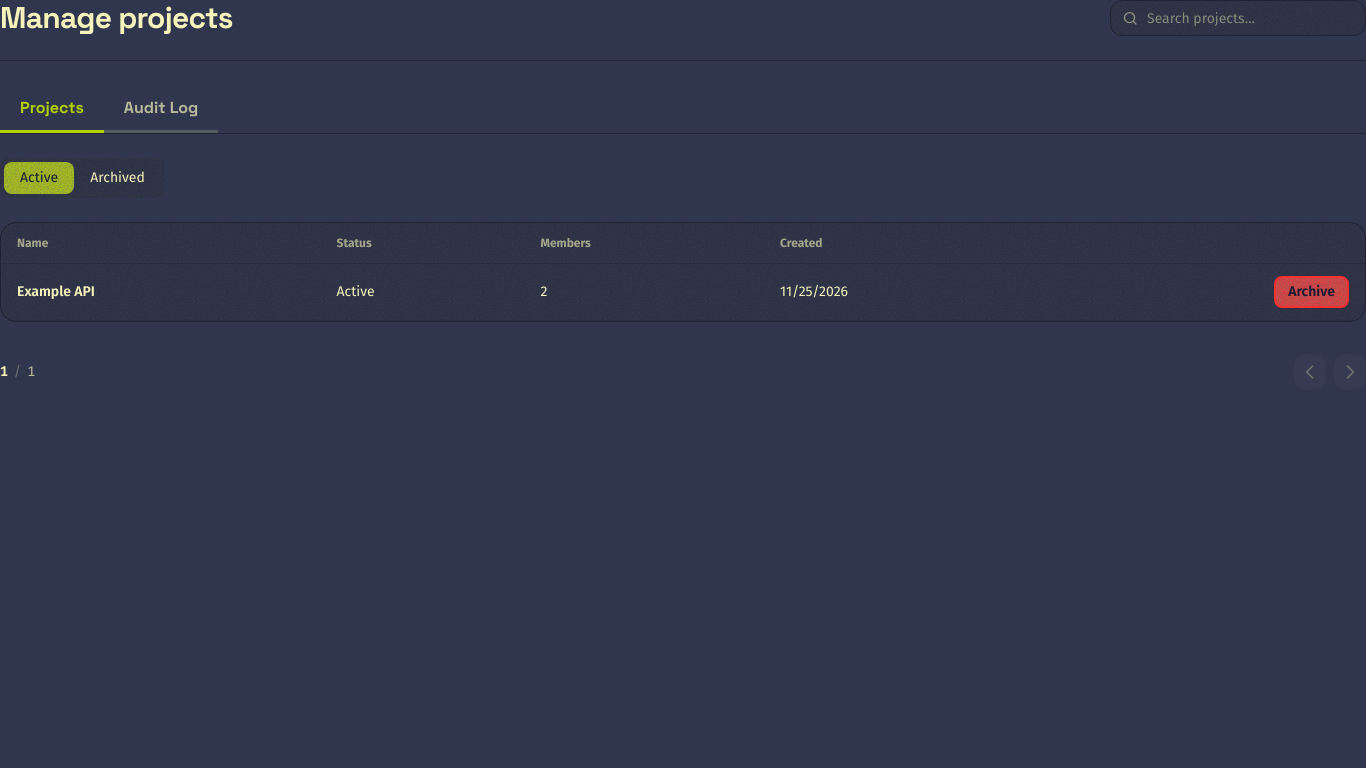
keeps a failed status change visible in the confirmation dialog
Click the button with aria-label "Archive Example API". click: (1312, 292)
box: [1274,276,1349,308]
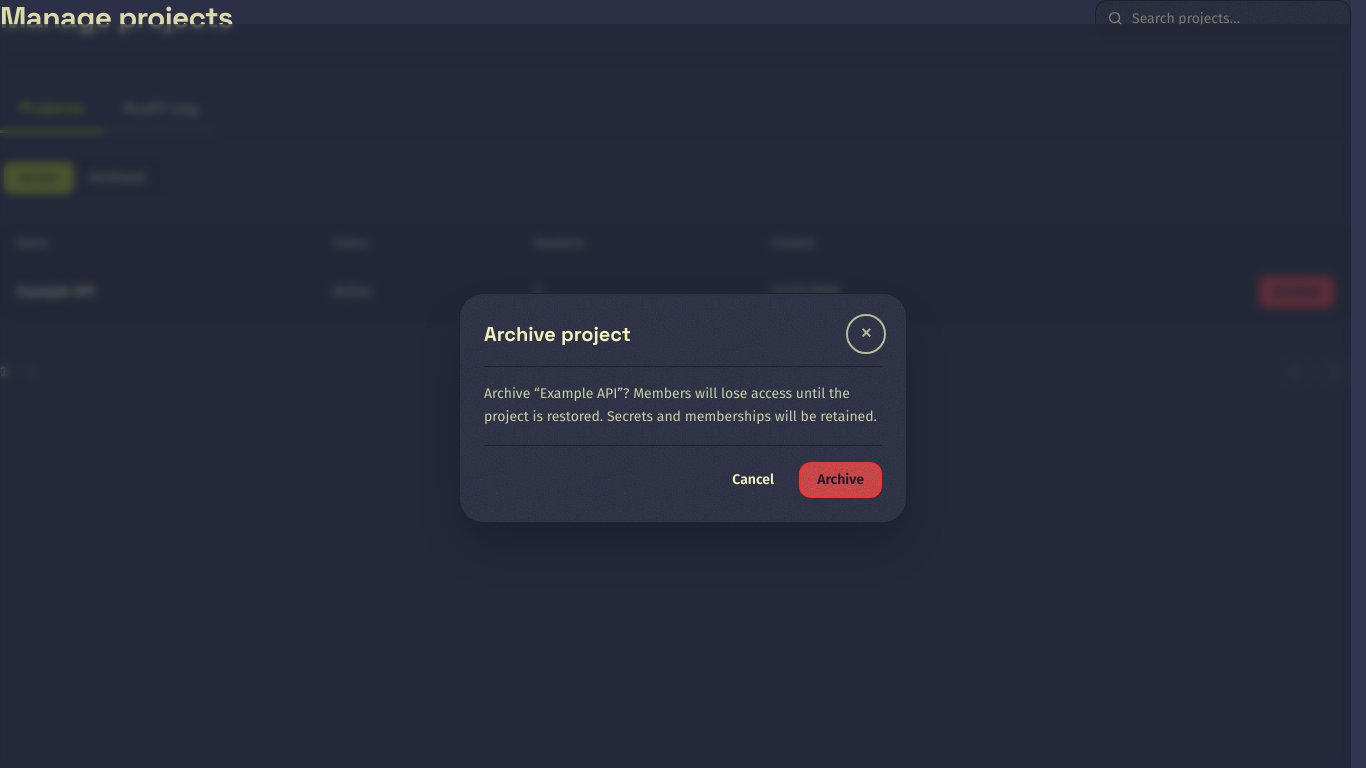
Click the button "Archive". click: (841, 480)
box: [799,462,882,498]
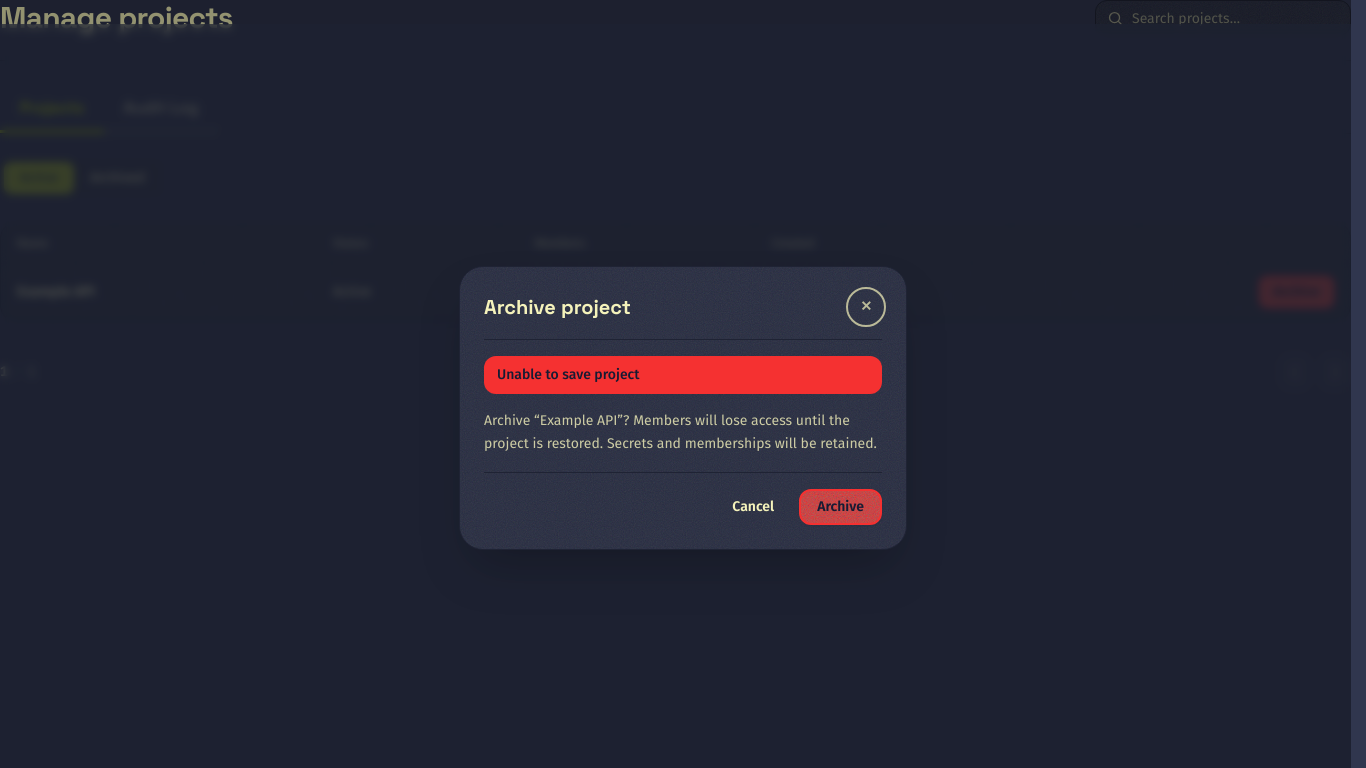
Check: the message reads "Unable to save project", box [497,366,640,383]
